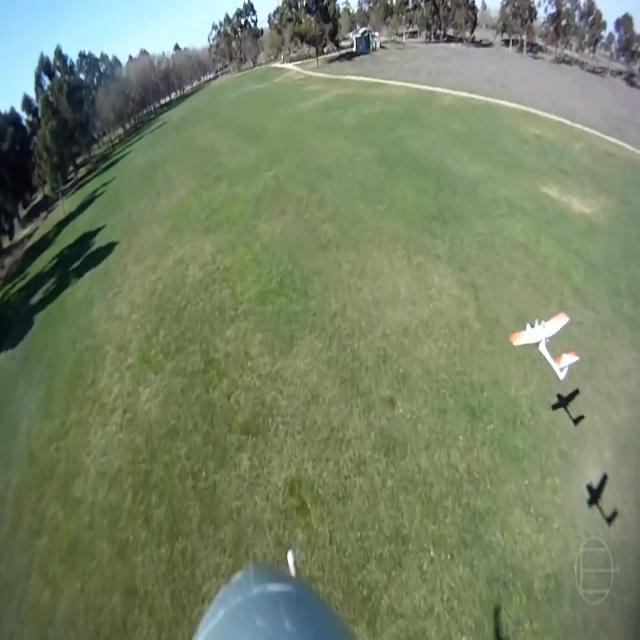iha: (543, 343, 545, 346)
